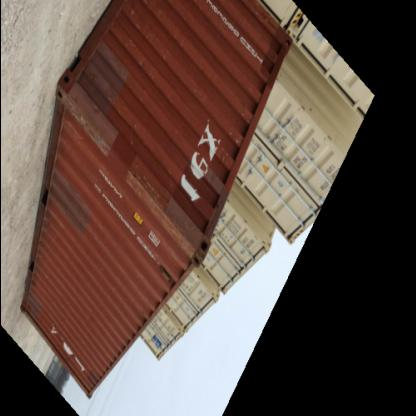Damage: (64, 92, 124, 146), (161, 200, 205, 264), (119, 168, 171, 207), (124, 34, 148, 66)
